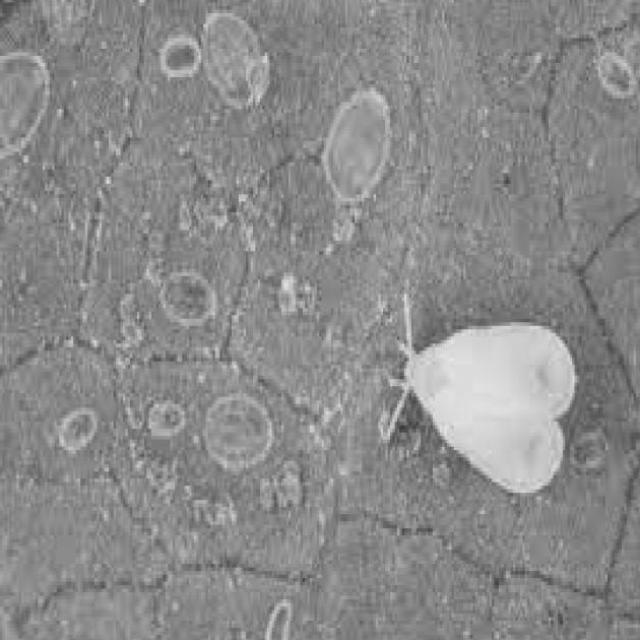Whitefly: (382, 262, 587, 507)
